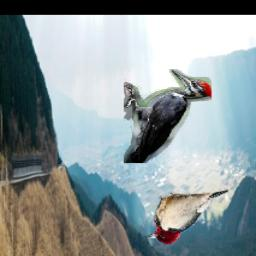Woodpecker: (125, 70, 213, 164), (144, 191, 230, 245)
